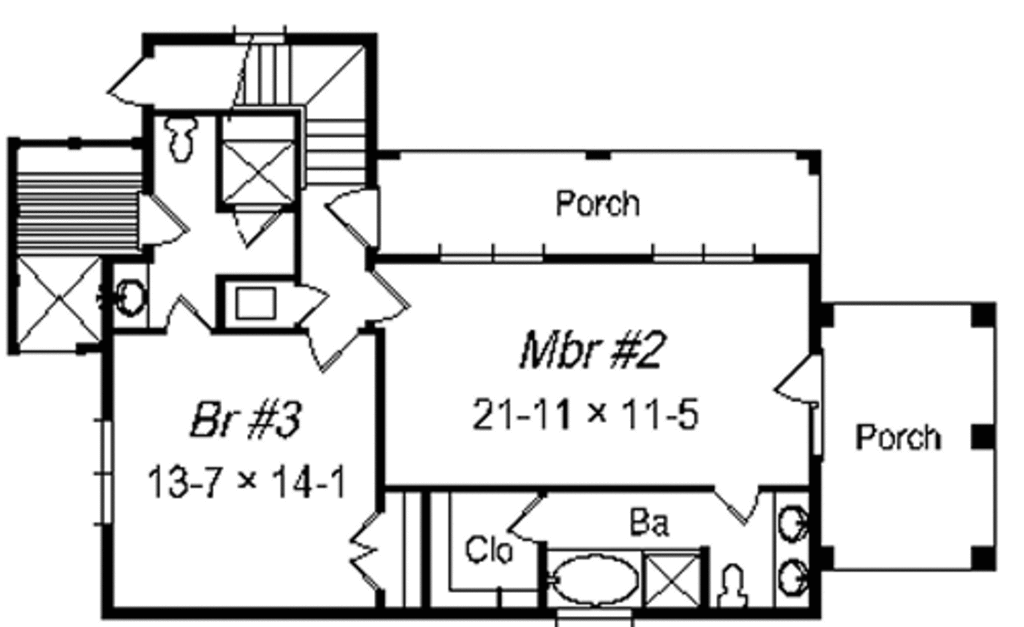door: (323, 183, 387, 247), (348, 510, 391, 593), (768, 349, 826, 406), (362, 266, 412, 325), (508, 486, 560, 541), (104, 50, 153, 106), (135, 197, 191, 243), (157, 288, 212, 334), (714, 475, 760, 530), (310, 325, 358, 374), (233, 208, 284, 251), (292, 282, 331, 326)
large_sink: (712, 544, 751, 609), (158, 112, 198, 165)
small_sink: (769, 483, 816, 543), (116, 268, 149, 328), (774, 553, 813, 602)
stairs: (212, 44, 367, 178)
tub: (547, 549, 642, 611)
window: (446, 243, 541, 264), (657, 248, 758, 265)
